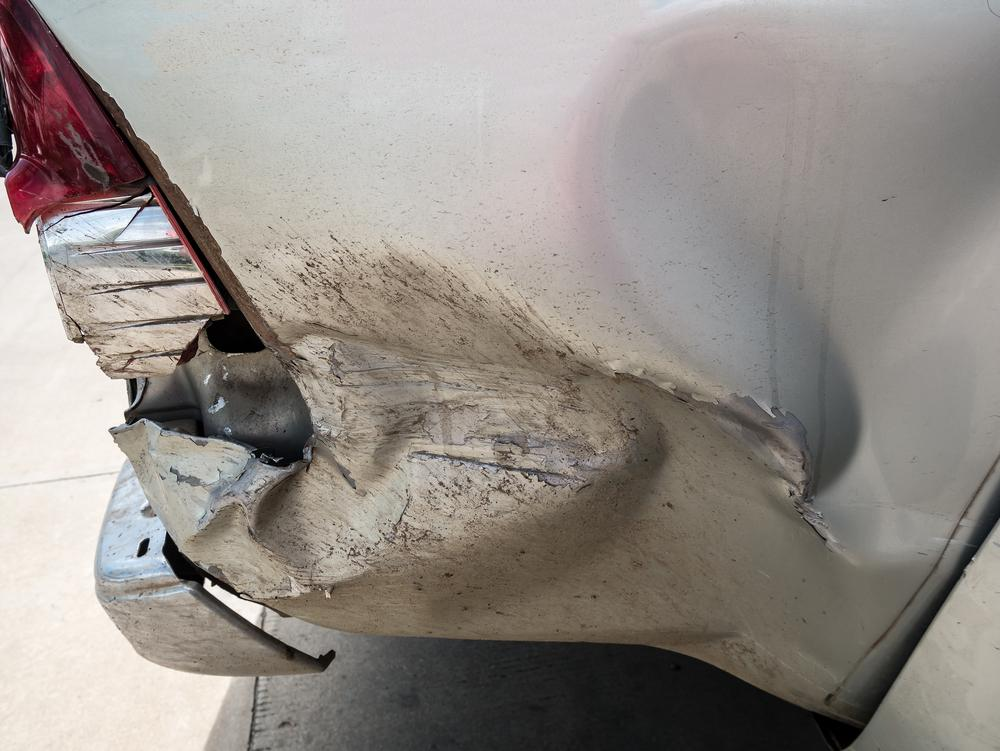dent: (193, 0, 1000, 691)
lamp broken: (0, 0, 300, 466)
